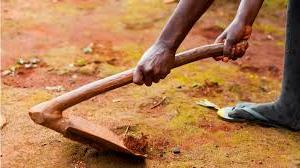HOUE: (10, 36, 248, 167)
